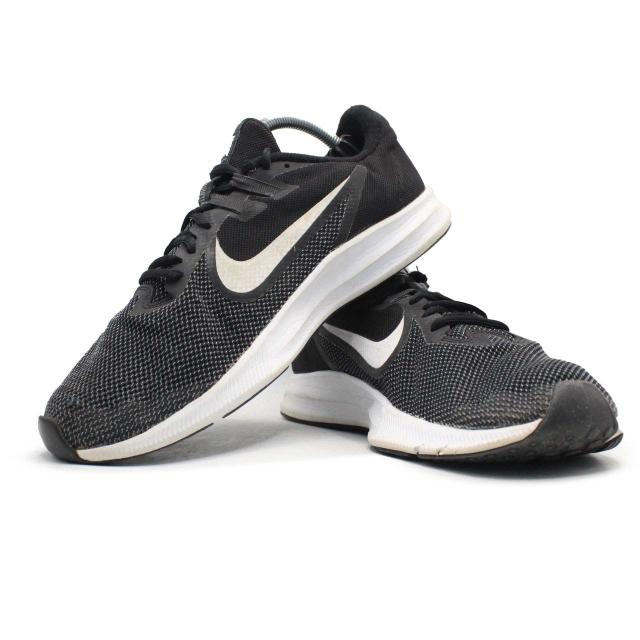heel: (333, 103, 430, 227)
midsole: (37, 187, 454, 465), (280, 370, 537, 458), (519, 381, 618, 463)
uppersole: (45, 120, 366, 447), (291, 270, 594, 423)
